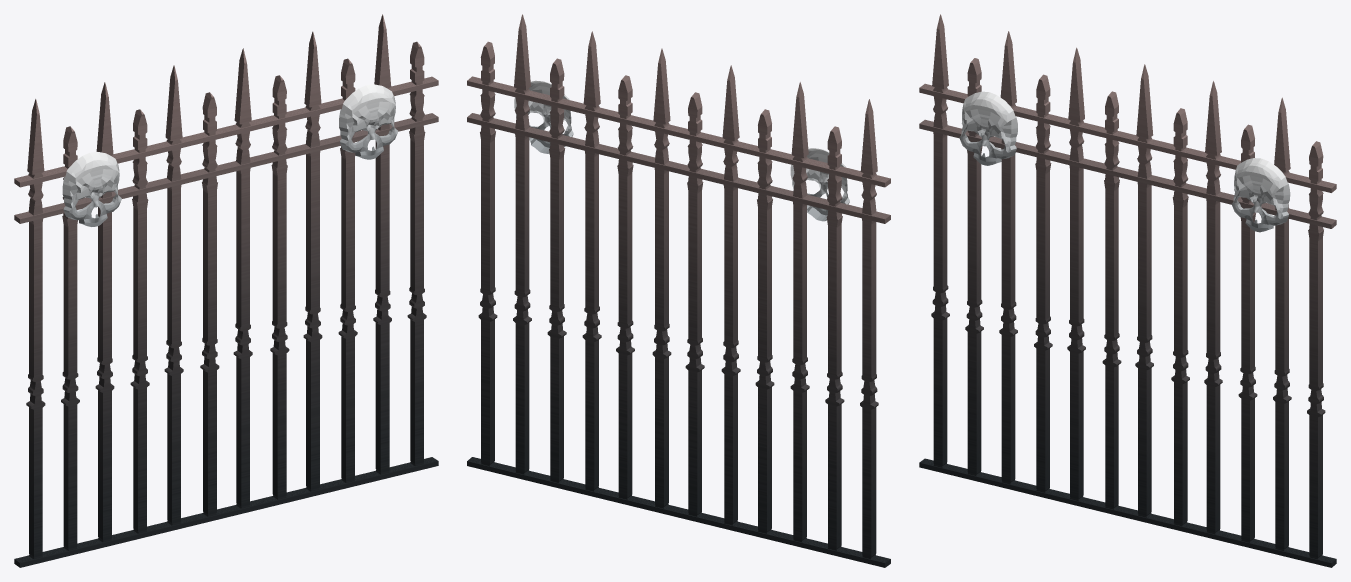
Rendered from SkullGate.fbx.
The picture shows the model from 3 angles, left to right: view 1: azimuth 30°, elevation 25°; view 2: azimuth 150°, elevation 25°; view 3: azimuth 330°, elevation 25°; orthographic projection.
Parts seen in each view (by area): view 1: pPlane3; view 2: pPlane3; view 3: pPlane3.
Part boxes in pixels (x1,y1,x2,y2): pPlane3: [14, 14, 438, 567]; pPlane3: [467, 14, 890, 567]; pPlane3: [919, 14, 1336, 567].
Size of the model in its own units: 41.15 by 43.46 by 2.2.
